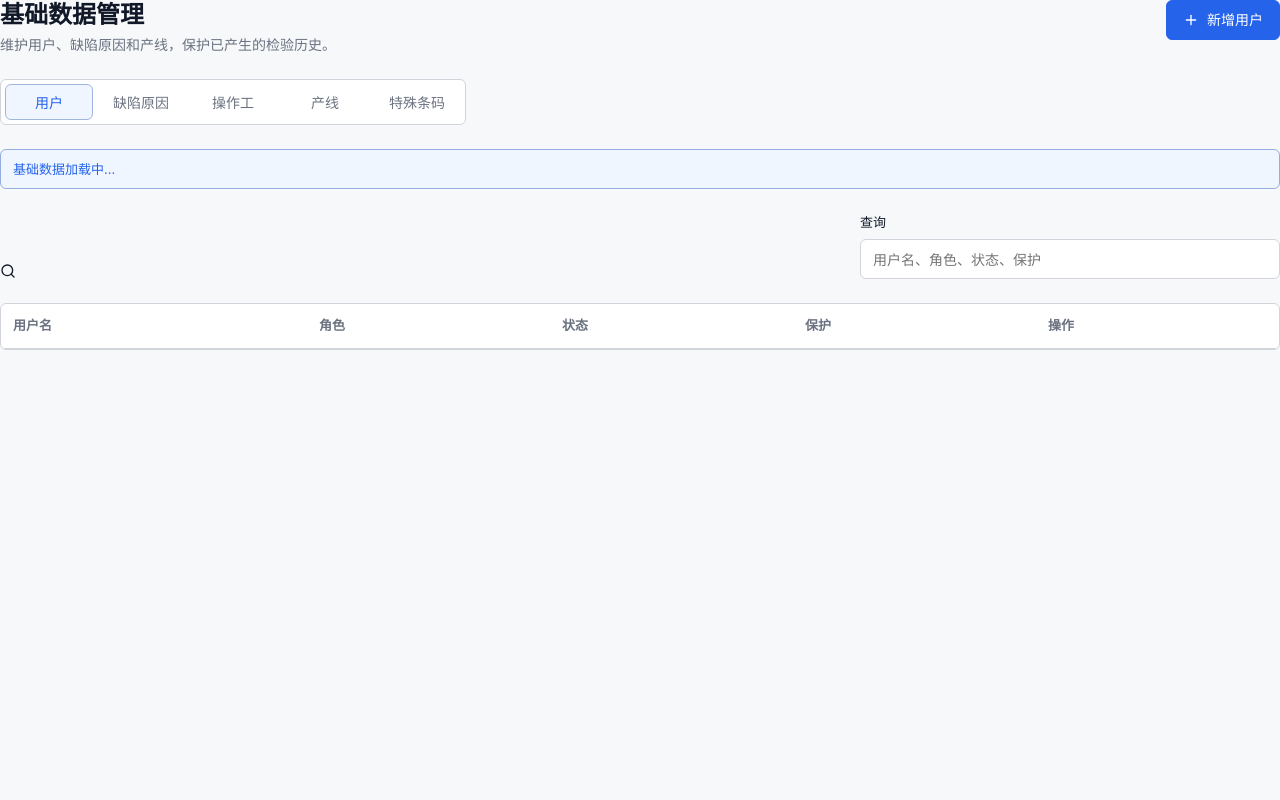
Test: MasterDataPage › edits an unreferenced defect reason name
The width and height of the screenshot is (1280, 800).
Click the tab "缺陷原因".
click(141, 102)  # box [97,84,185,120]
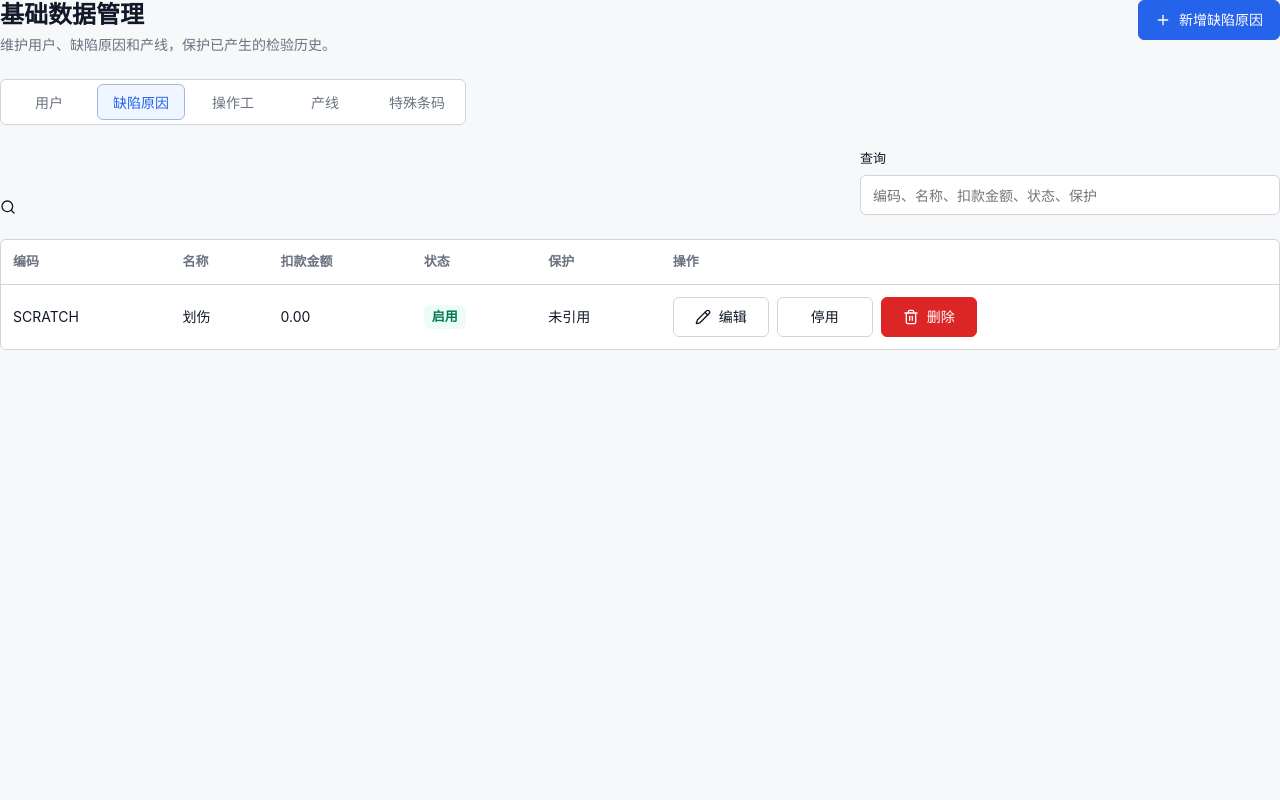
Click the button with aria-label "编辑缺陷原因 SCRATCH".
click(721, 317)  # box [673,297,769,337]
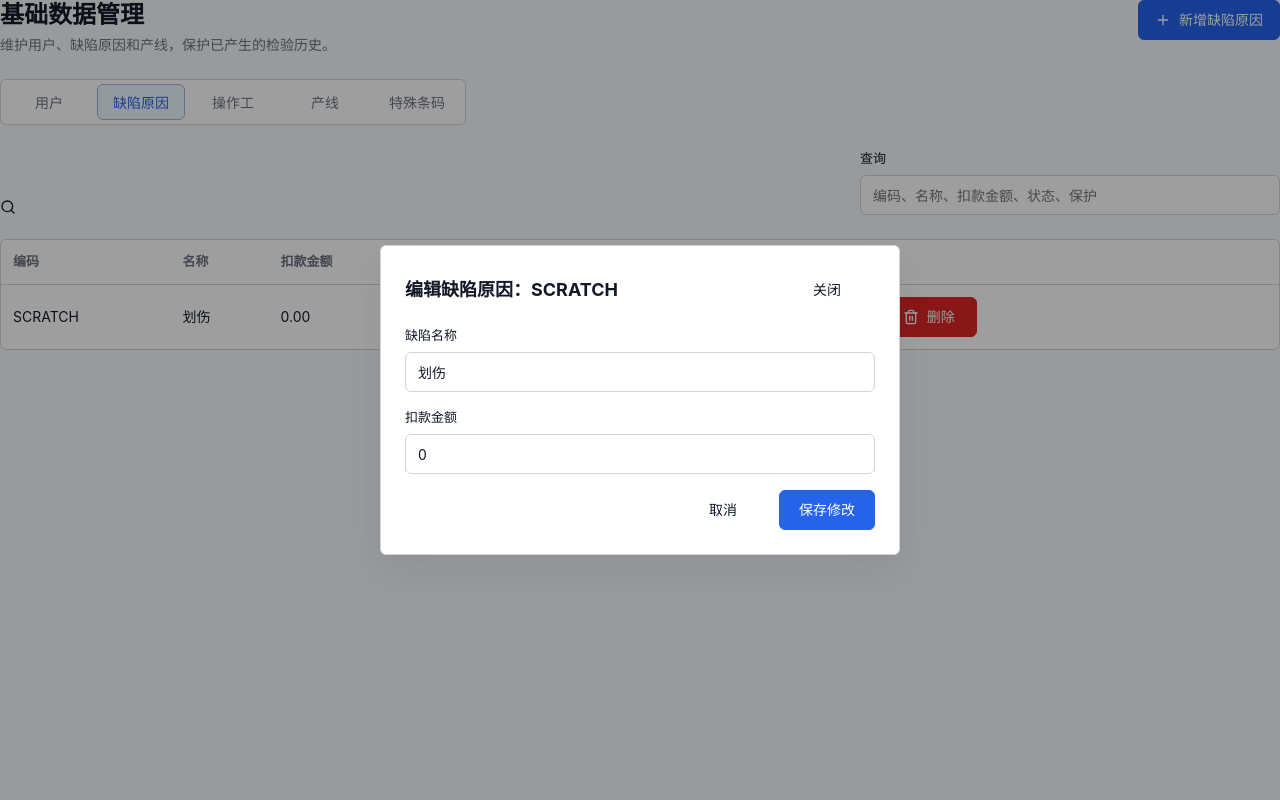
Replace the text in the field labelled "缺陷名称" with "轻微划伤" at (640, 372), box [405,352,875,392]
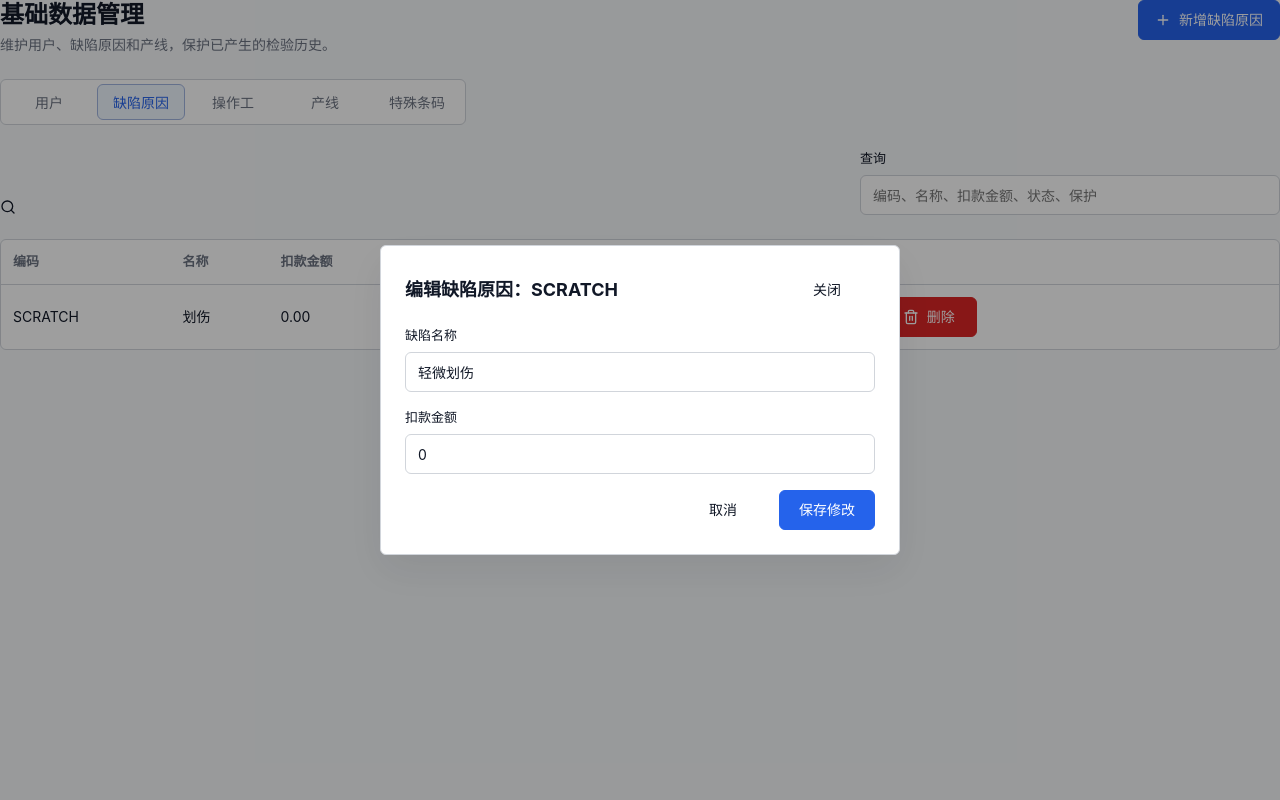
Click the button "保存修改".
click(827, 510)  # box [779,490,875,530]
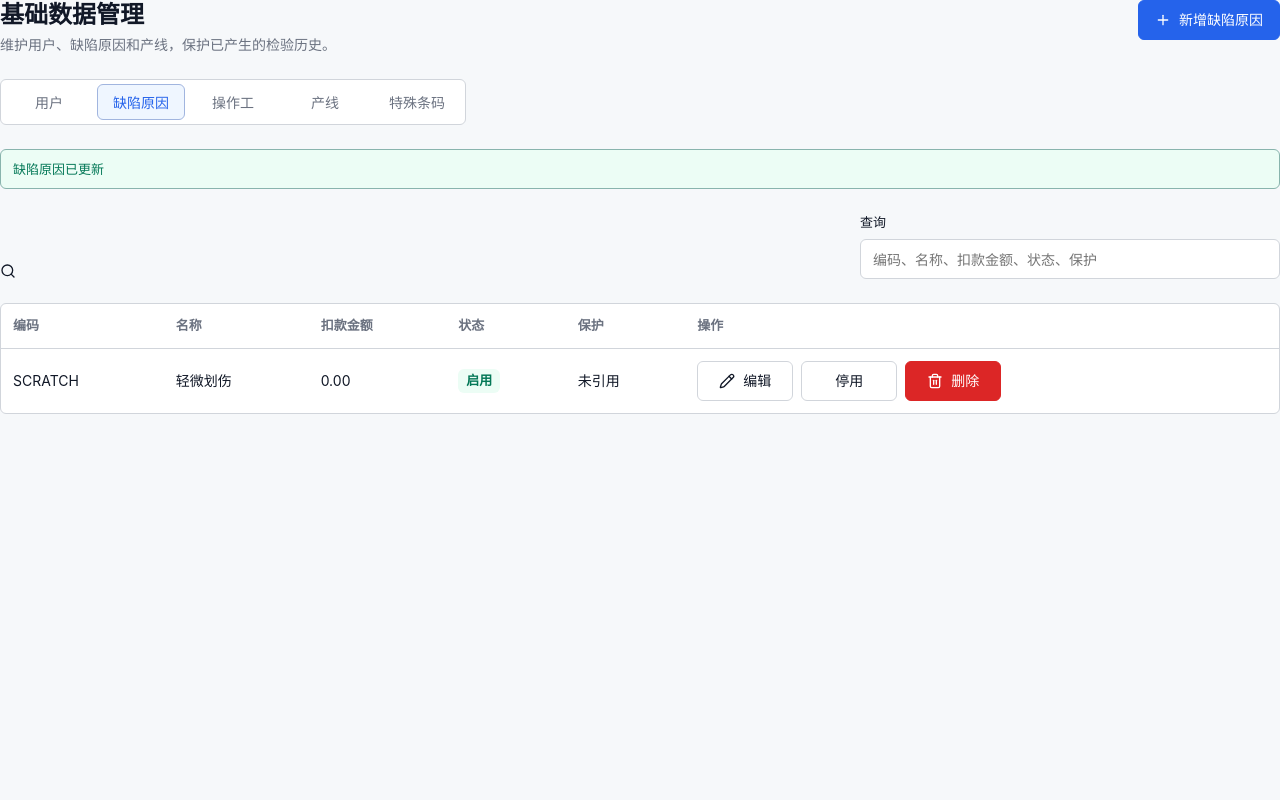
Check: the text "轻微划伤" is shown, box [164,348,309,413]
